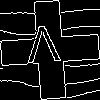V: (25, 25, 62, 73)
